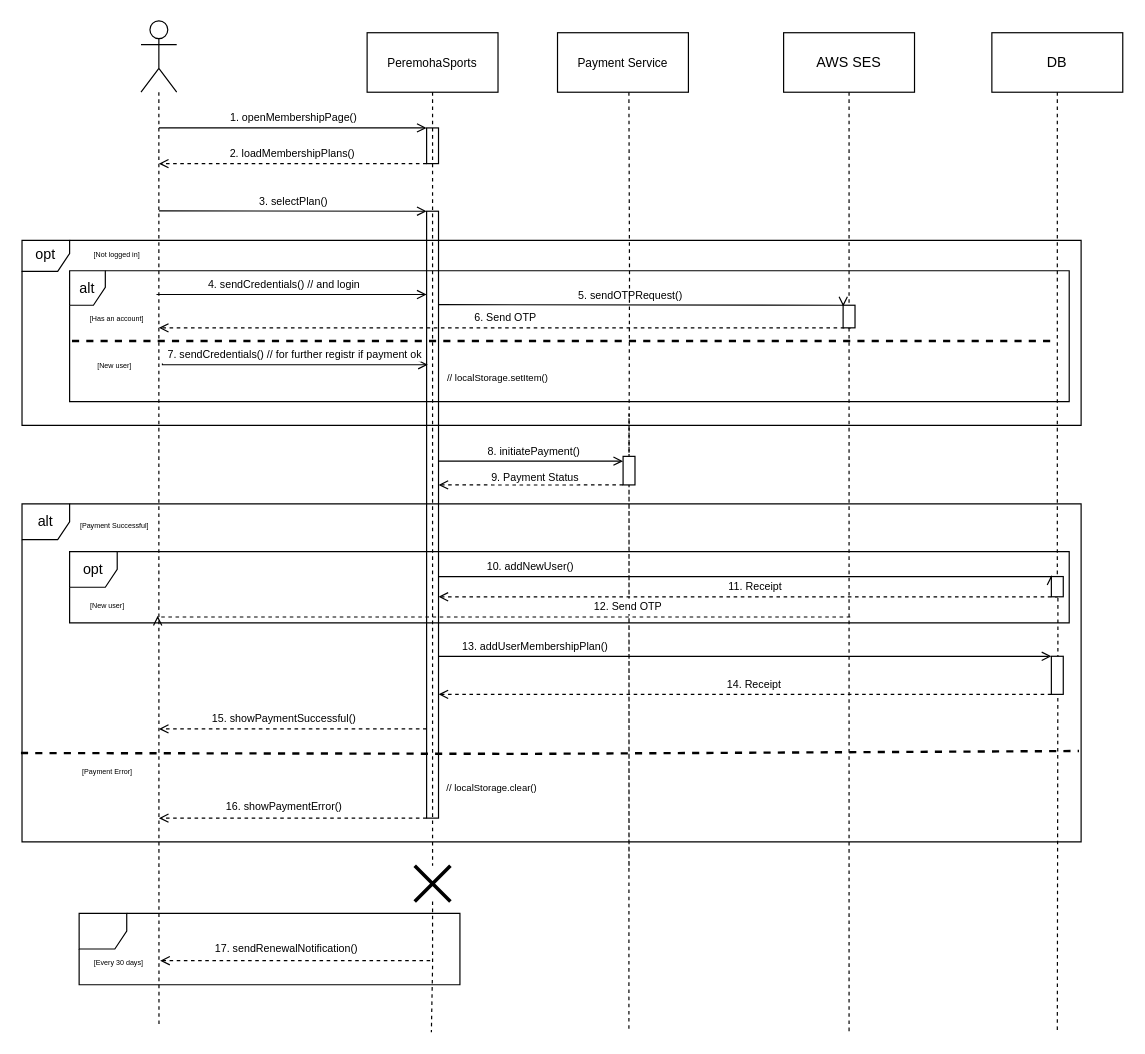
This 1145x1054 diagram has some shape labels left out. The centre of each missing label's shape, as x and y in pixels:
Client: the point at 158,56
loop: the point at 269,948
